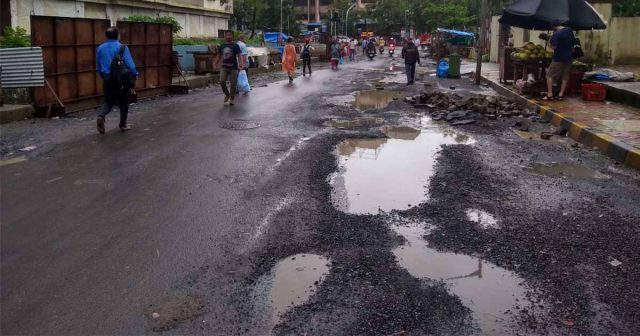pothole: (386, 223, 551, 334), (305, 115, 471, 205), (258, 235, 333, 330), (316, 77, 390, 111)
